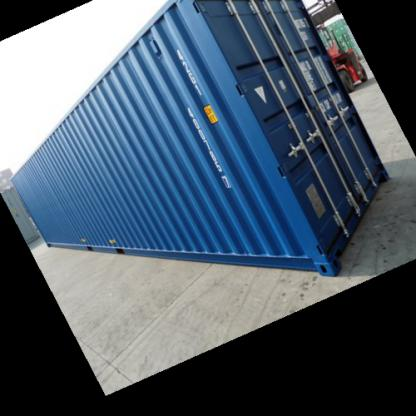Damage: (75, 228, 115, 247)
